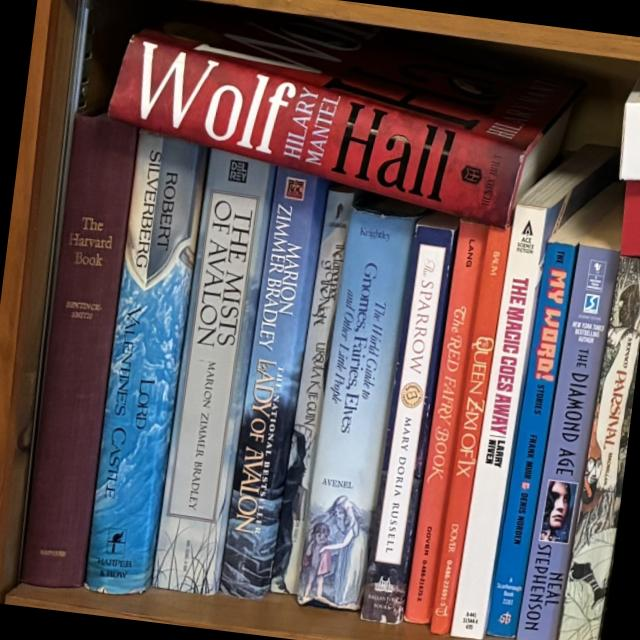book: (397, 126, 623, 640), (102, 0, 581, 237), (467, 197, 604, 640), (82, 130, 209, 598), (149, 148, 278, 596), (20, 111, 139, 590), (289, 191, 424, 613), (514, 197, 628, 640), (215, 167, 329, 600), (359, 211, 460, 625), (401, 220, 489, 625), (269, 183, 355, 595), (427, 226, 512, 635), (558, 253, 640, 640)
